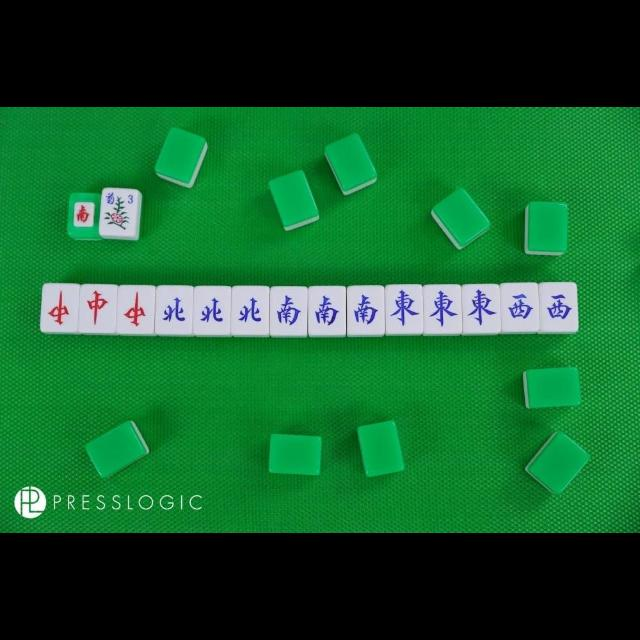dr: (42, 284, 80, 332), (118, 286, 156, 334), (80, 284, 116, 334)
f3: (101, 188, 139, 206)
we: (424, 286, 462, 334), (462, 284, 500, 332), (386, 284, 422, 332)
wn: (156, 288, 194, 334), (232, 288, 268, 336), (196, 286, 230, 336)
ws: (270, 288, 308, 338), (347, 286, 385, 334), (310, 286, 346, 336)
ww: (542, 282, 578, 332), (502, 284, 540, 330)
